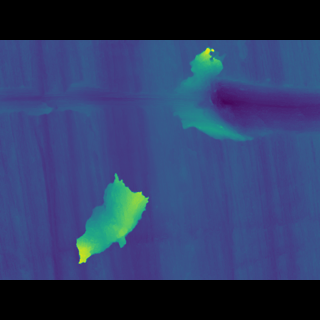Loch: (0, 75, 320, 149), (70, 173, 156, 232)
